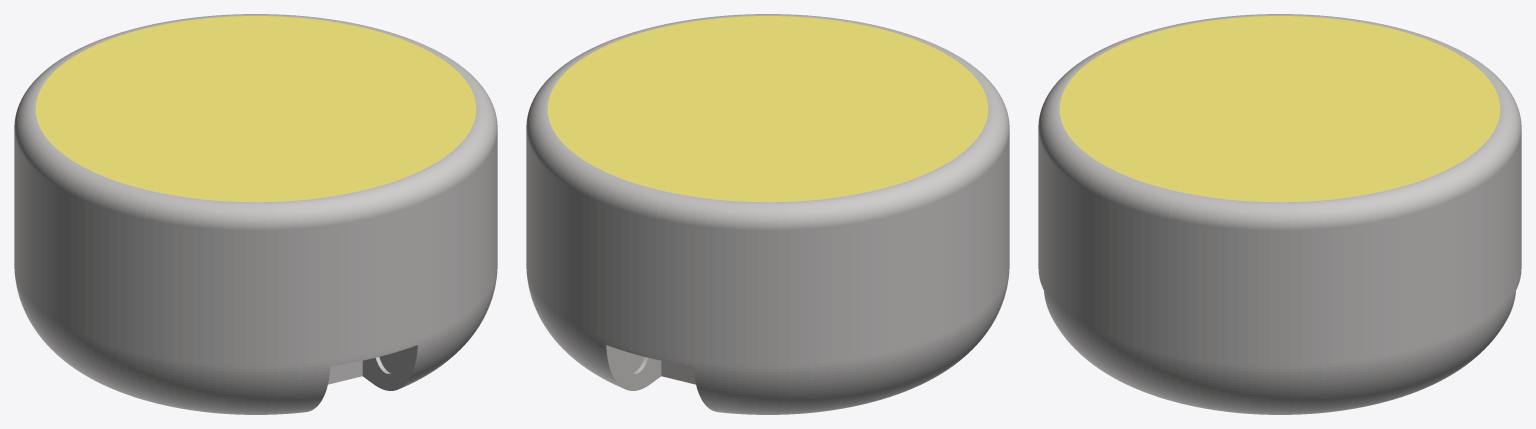
File: arm6.dae
The picture shows the model from 3 angles, left to right: view 1: azimuth 30°, elevation 25°; view 2: azimuth 150°, elevation 25°; view 3: azimuth 270°, elevation 25°; orthographic projection.
Visible parts, largest first — view 1: Arm6; view 2: Arm6; view 3: Arm6.
Part boxes in pixels (x1,y1,x2,y2): Arm6: [14, 14, 497, 414]; Arm6: [526, 14, 1009, 414]; Arm6: [1038, 14, 1521, 414].
Bounding box in the file's own units: 0.1134 × 0.1134 × 0.06.
Materials: 2 (2 with a texture image).
